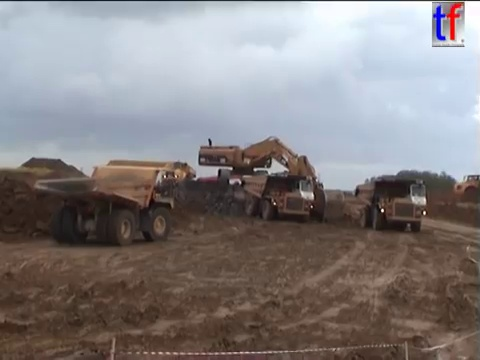excavator: (196, 134, 345, 224), (196, 168, 270, 193)
truck: (32, 158, 179, 247), (352, 178, 427, 233), (240, 171, 318, 222), (159, 160, 196, 187), (452, 174, 480, 200)
